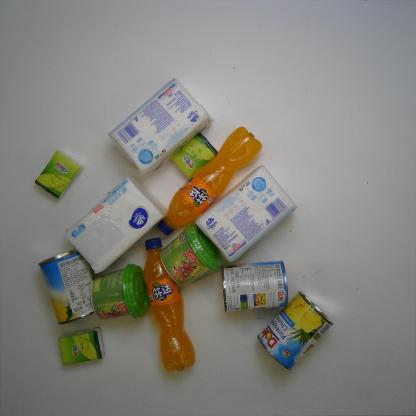Canned Food: (257, 291, 334, 370), (38, 244, 103, 326), (221, 261, 288, 314)
Drink: (157, 127, 263, 236), (144, 237, 196, 372)
Instant Drink: (160, 223, 223, 288), (90, 264, 152, 323)
Tissue: (65, 175, 167, 275), (197, 166, 297, 264), (109, 77, 211, 173), (34, 150, 84, 201), (170, 132, 218, 178), (58, 325, 104, 365)
